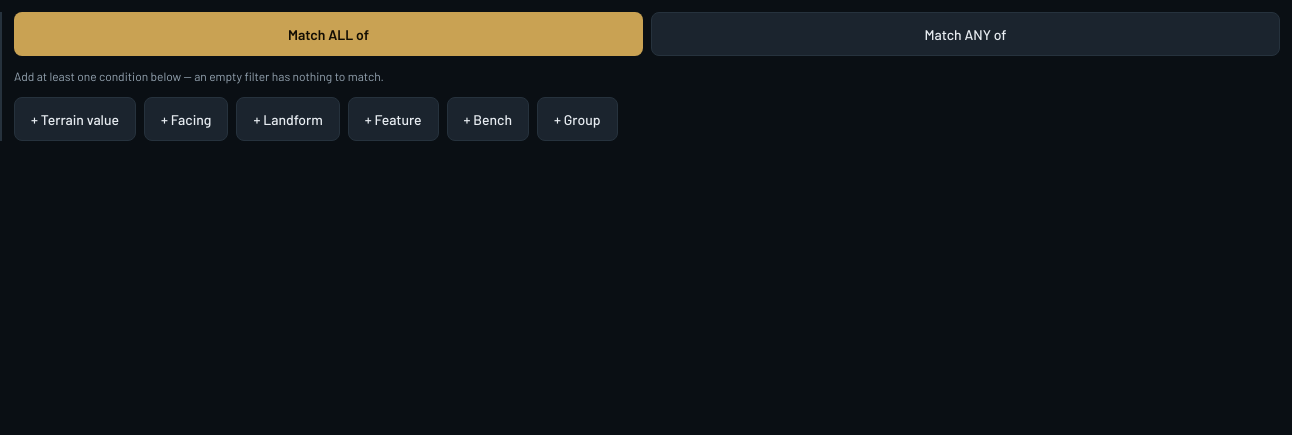
Test: GroupNode — adding a condition › adding "+ Terrain value" renders a metric picker and a band slider
Click the button "+ Terrain value": (75, 119) left=14, top=97, right=136, bottom=141
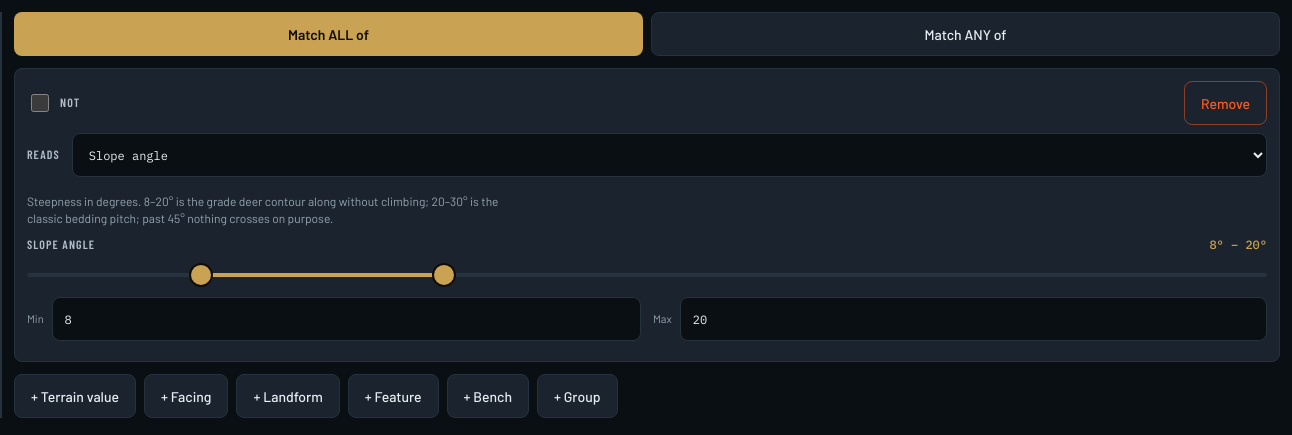
Result: the dropdown with class "rl-filter-node__select" is shown at left=72, top=133, right=1267, bottom=177
Result: the number of sliders with class "rl-filter-band__input" is 2 at left=27, top=261, right=1267, bottom=289; left=27, top=261, right=1267, bottom=289
